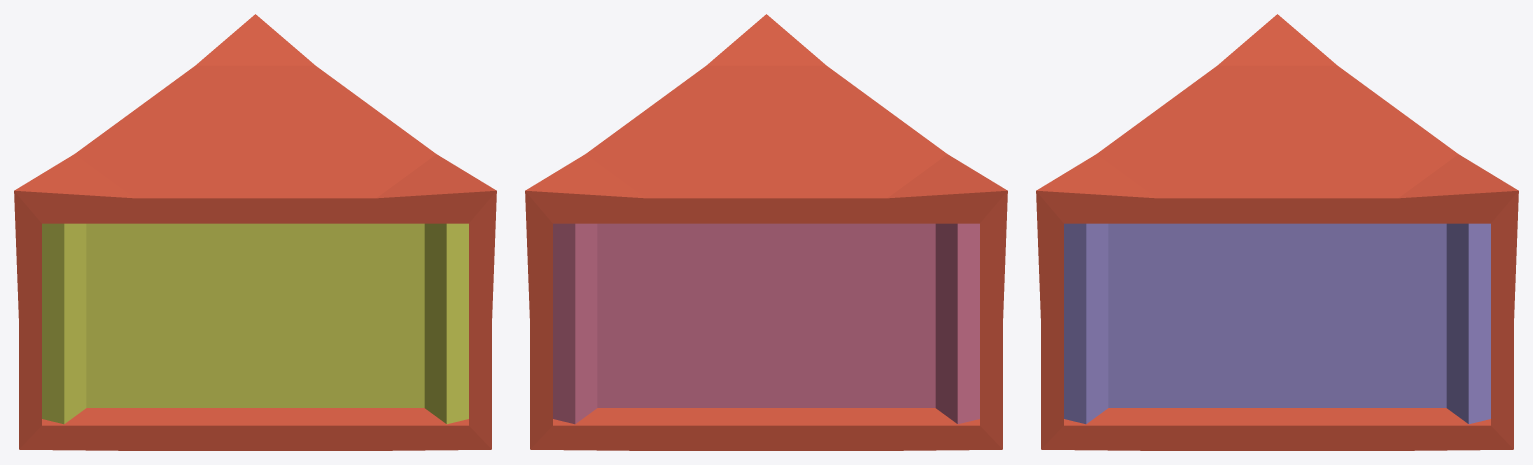
File: FlashBox5.fbx
3 renders of one model, left to right at view 1: azimuth 30°, elevation 25°; view 2: azimuth 150°, elevation 25°; view 3: azimuth 270°, elevation 25°, orthographic.
Visible parts, largest first — view 1: Sphere; view 2: Sphere; view 3: Sphere.
Boxes of the visible parts, x1,y1,x2,y2 form: Sphere: (14, 14, 496, 450); Sphere: (525, 14, 1007, 450); Sphere: (1036, 14, 1518, 450).
Bounding box in the file's own units: 150 × 103 × 173.
